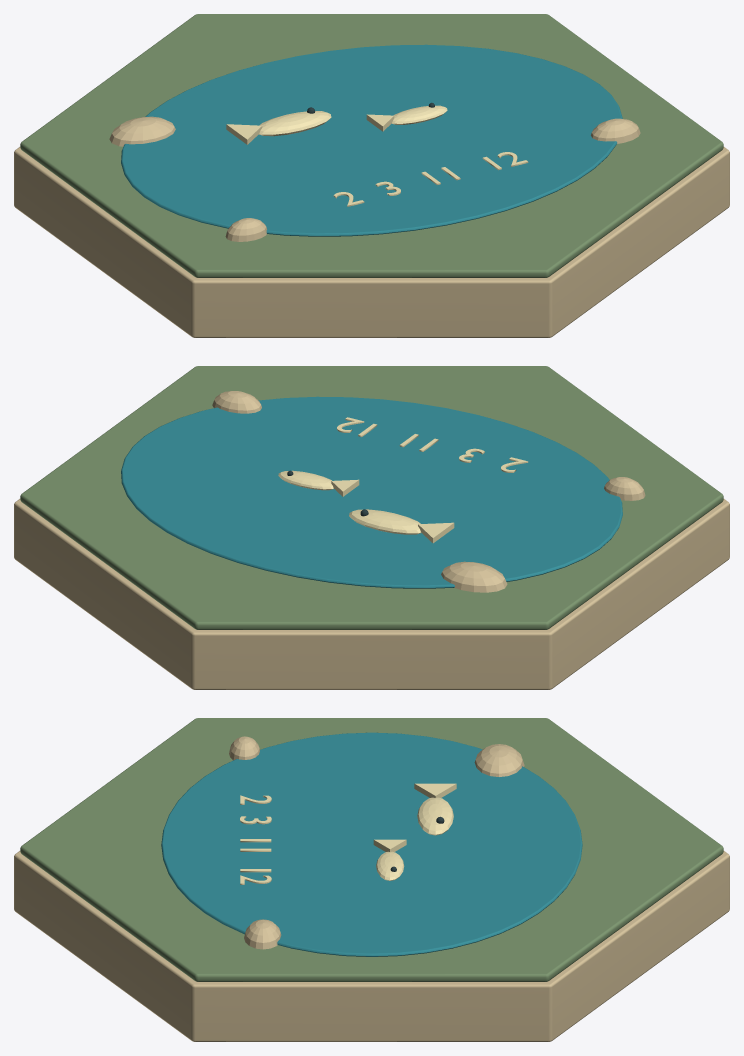
Rendered from lake.fbx.
The picture shows the model from 3 angles, top to bottom: view 1: azimuth 30°, elevation 25°; view 2: azimuth 150°, elevation 25°; view 3: azimuth 270°, elevation 25°; orthographic projection.
Visible parts, largest first — view 1: lake; view 2: lake; view 3: lake.
Part boxes in pixels (x1,y1,x2,y2): lake: [14, 14, 729, 337]; lake: [14, 366, 729, 689]; lake: [14, 718, 729, 1041].
Size of the model in its own units: 6.84 by 0.9905 by 7.88.
